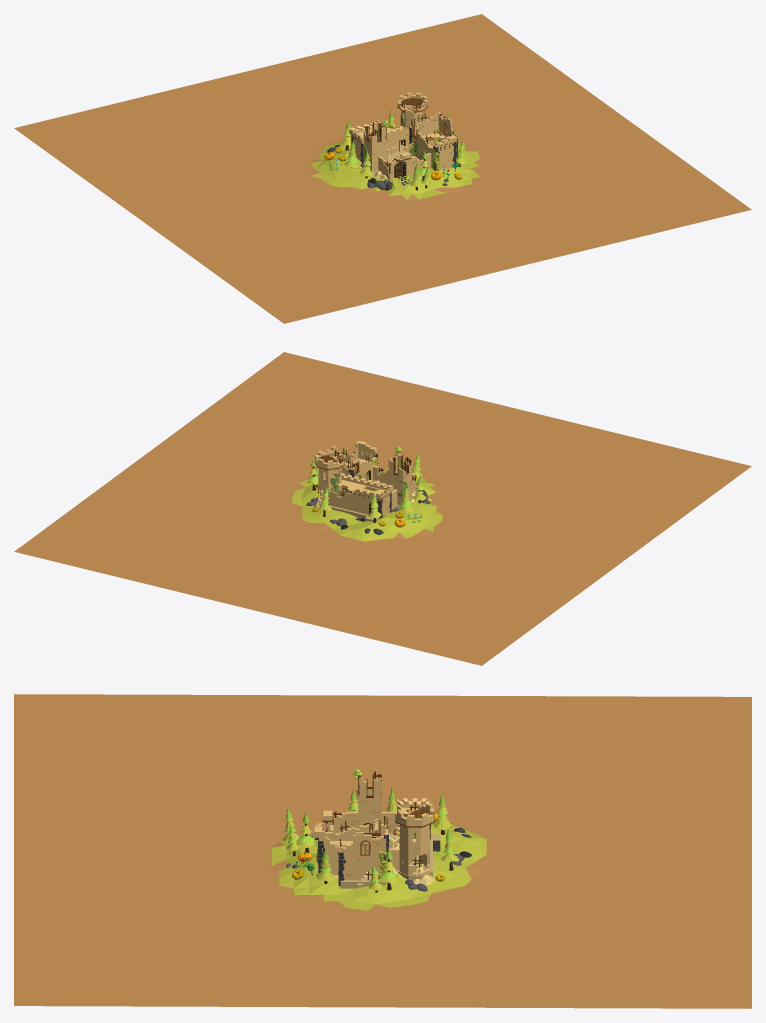
Rendered from low_poly_castle_in_ruins.glb.
The picture shows the model from 3 angles, top to bottom: view 1: azimuth 30°, elevation 25°; view 2: azimuth 150°, elevation 25°; view 3: azimuth 270°, elevation 25°; orthographic projection. The views are drawn at different scales.
Visible parts, largest first — view 1: Object_3, Object_6, Object_5, Object_8, Object_10, Object_13, Object_9; view 2: Object_3, Object_6, Object_8, Object_5, Object_13, Object_11, Object_10; view 3: Object_3, Object_6, Object_8, Object_5, Object_10, Object_11, Object_13, Object_9.
Boxes of the visible parts, x1,y1,x2,y2 form: Object_3: [14, 14, 751, 323]; Object_6: [351, 112, 458, 178]; Object_5: [327, 98, 455, 190]; Object_8: [349, 92, 456, 173]; Object_10: [340, 120, 431, 190]; Object_13: [363, 120, 436, 172]; Object_9: [326, 111, 467, 179]; Object_3: [14, 352, 751, 665]; Object_6: [314, 440, 414, 518]; Object_8: [314, 449, 412, 521]; Object_5: [317, 448, 429, 534]; Object_13: [388, 453, 411, 506]; Object_11: [307, 458, 413, 516]; Object_10: [368, 452, 426, 522]; Object_3: [14, 694, 751, 1008]; Object_6: [314, 769, 433, 884]; Object_8: [315, 798, 440, 888]; Object_5: [286, 771, 471, 880]; Object_10: [282, 788, 452, 856]; Object_11: [307, 787, 459, 892]; Object_13: [358, 777, 396, 835]; Object_9: [296, 797, 429, 886].
Size of the model in its own units: 82.04 by 10.26 by 82.04.
1 material, 1 textured.
